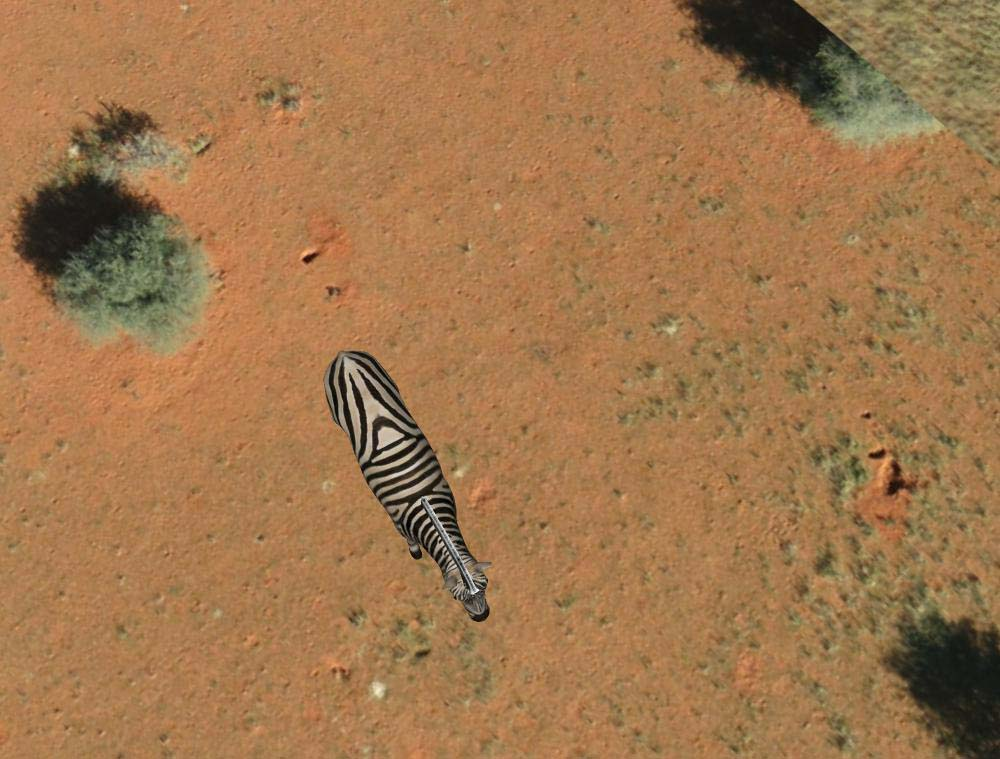zebra: (321, 343, 499, 629)
